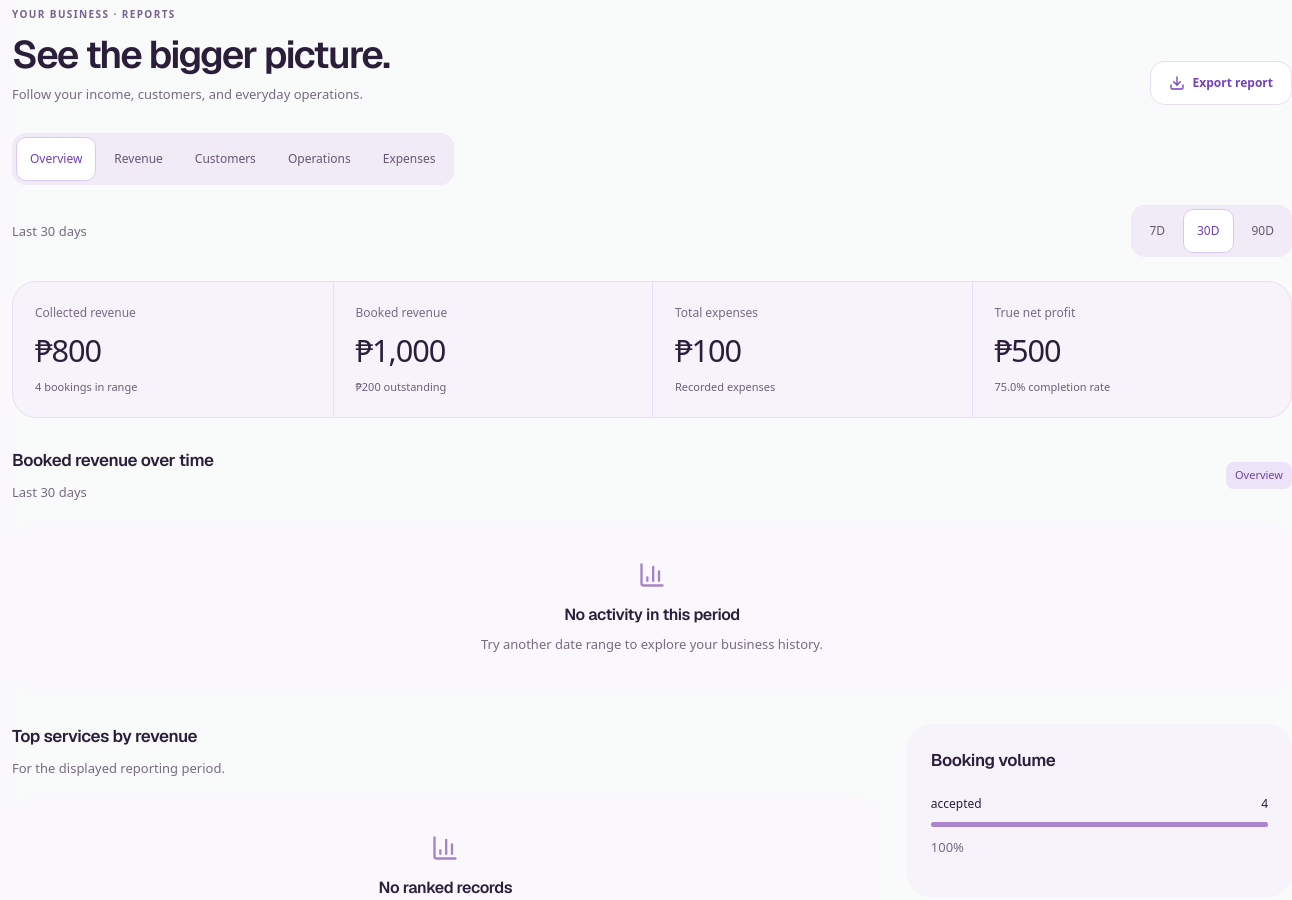
Test: redesigned reports › shows actual contributors, not a rate mixing current queue with historical work
Click the button "Operations".
click(319, 159)  # box [274,137,365,181]
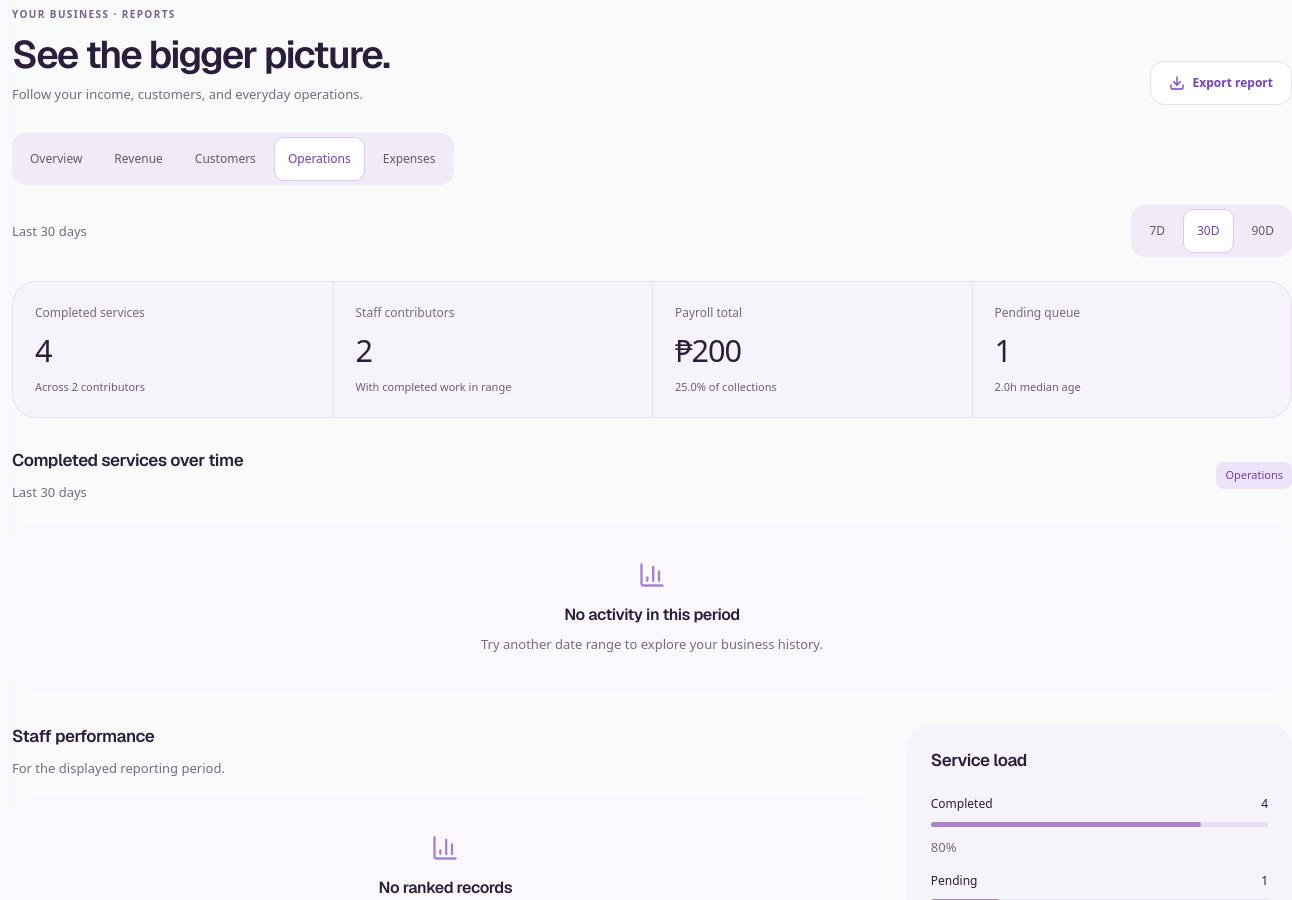
Expected: the text "Staff contributors" is shown, [356,304,454,321]
Expected: the text "completion rate" is gone
